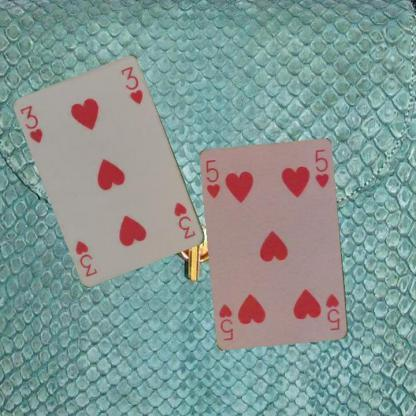3h: (18, 102, 44, 146), (172, 200, 198, 241)
5h: (203, 157, 222, 200), (324, 291, 342, 332)
